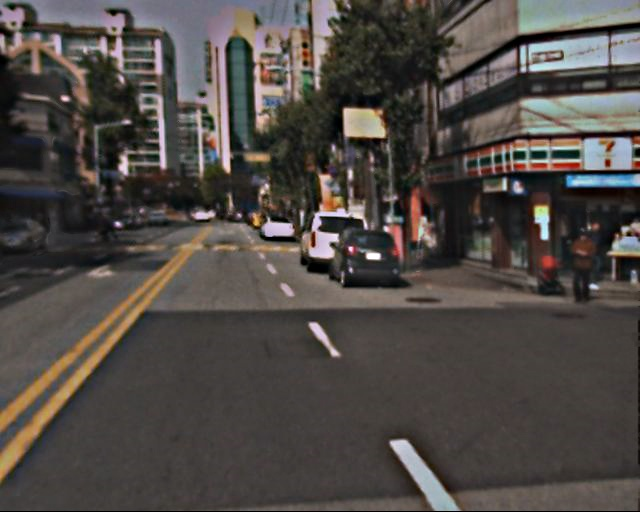person: (564, 228, 603, 307), (580, 216, 611, 291), (97, 205, 115, 248)
